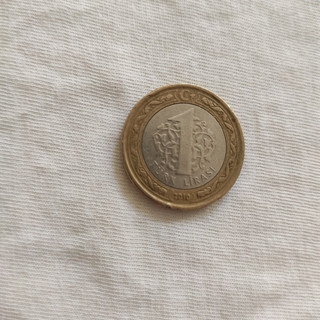1TL: (117, 80, 246, 214)
